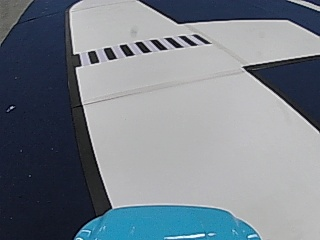CrossWalk: (74, 34, 208, 64)
